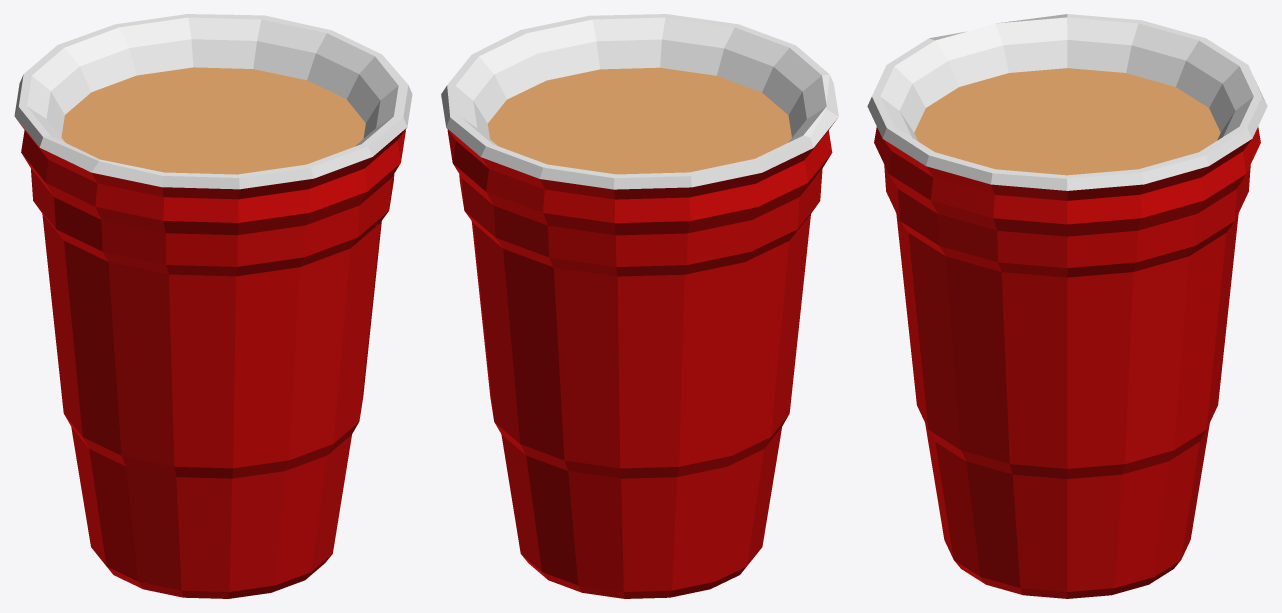
The model's file is RedCup.glb.
3 views of the same model, side by side, from view 1: azimuth 30°, elevation 25°; view 2: azimuth 150°, elevation 25°; view 3: azimuth 270°, elevation 25° (orthographic).
Parts seen in each view (by area): view 1: Cup; view 2: Cup; view 3: Cup.
Part boxes in pixels (bbox=[...]): Cup: bbox=[14, 14, 412, 598]; Cup: bbox=[441, 14, 838, 598]; Cup: bbox=[867, 14, 1267, 598].
Size of the model in its own units: 0.096 by 0.12 by 0.096.
